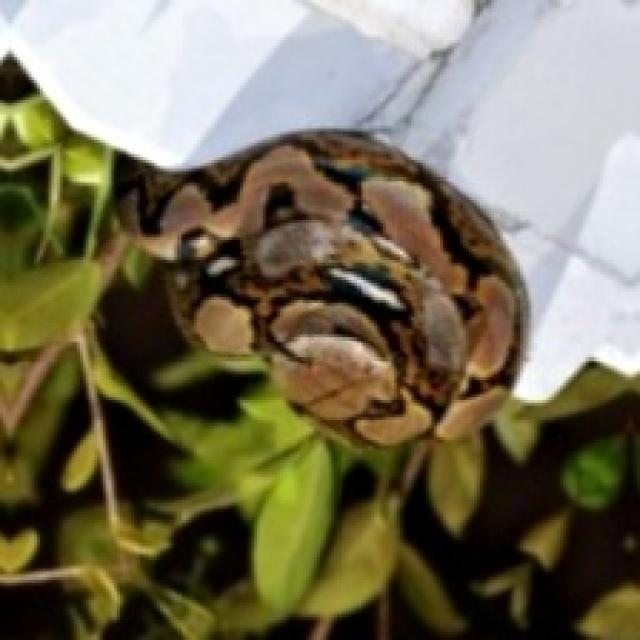reticulated python: (123, 131, 523, 443)
